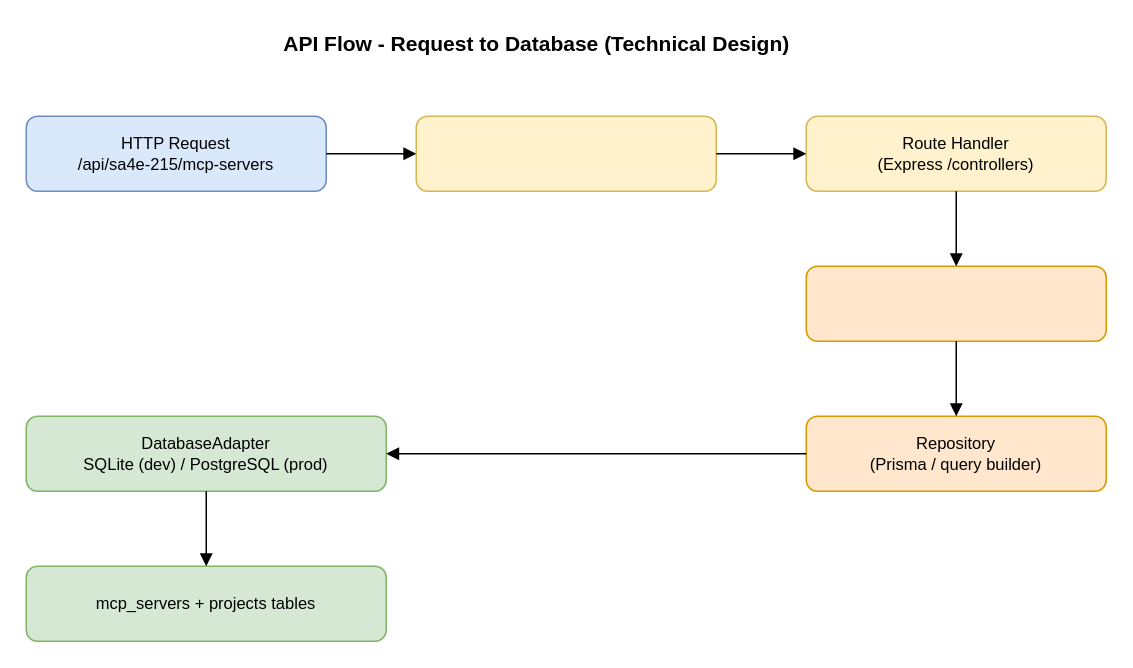
The diagram is 1133 pixels wide and 668 high, and some of its shapes have lost their labels. Each missing label, with the centre of its shape:
MCP Config Service business logic: pixel 955 303
Validation Middleware auth (admin) + project_id scope: pixel 565 153
